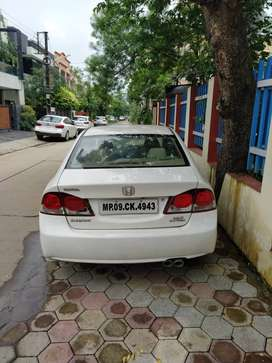MP09CK4943: (99, 199, 158, 213)
